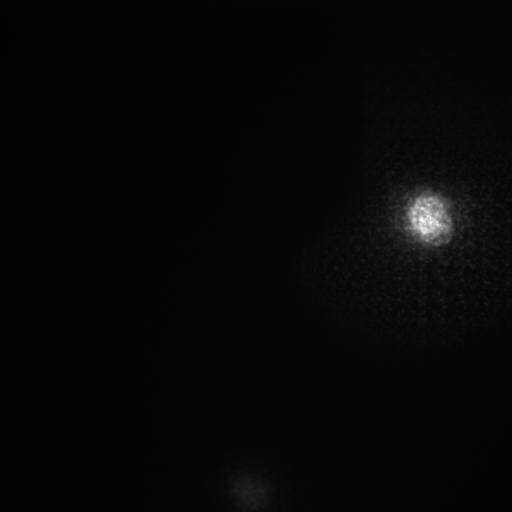lam3: (404, 195, 451, 244)
